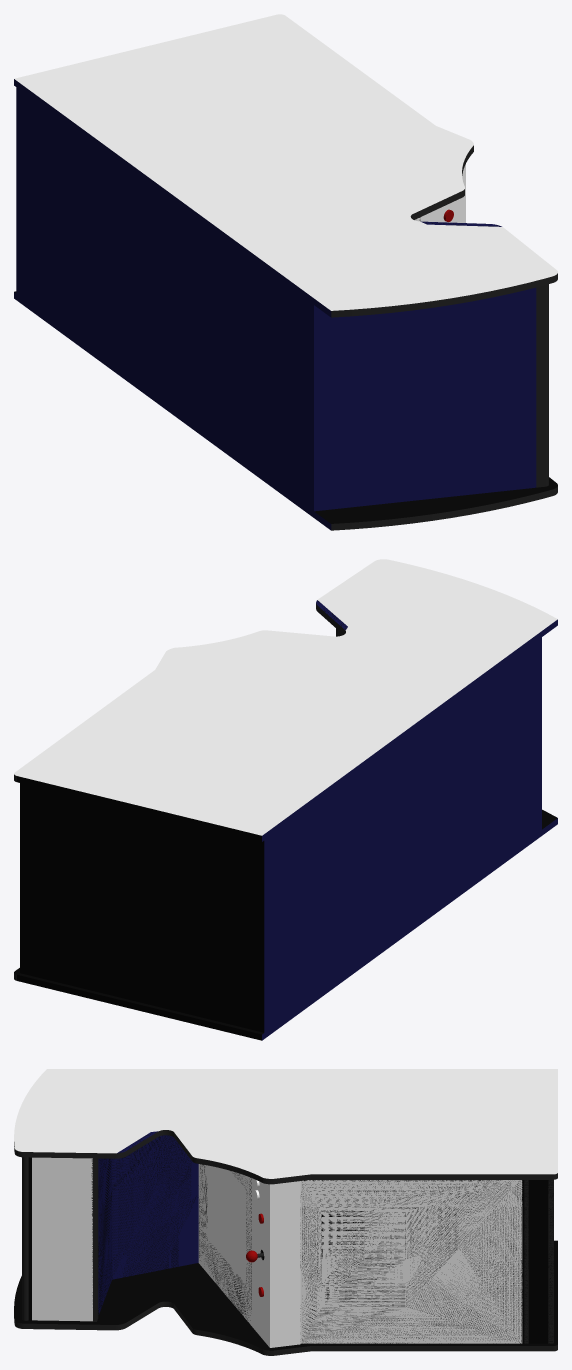
The picture shows the model from 3 angles, top to bottom: view 1: azimuth 30°, elevation 25°; view 2: azimuth 150°, elevation 25°; view 3: azimuth 270°, elevation 25°; orthographic projection. The views are drawn at different scales.
Visible parts, largest first — view 1: super pac man arcade game; view 2: super pac man arcade game; view 3: super pac man arcade game.
Boxes of the visible parts, x1,y1,x2,y2 form: super pac man arcade game: (14, 14, 557, 530); super pac man arcade game: (14, 559, 557, 1040); super pac man arcade game: (14, 1069, 557, 1355).
Size of the model in its own units: 32.84 by 24.65 by 68.66.
